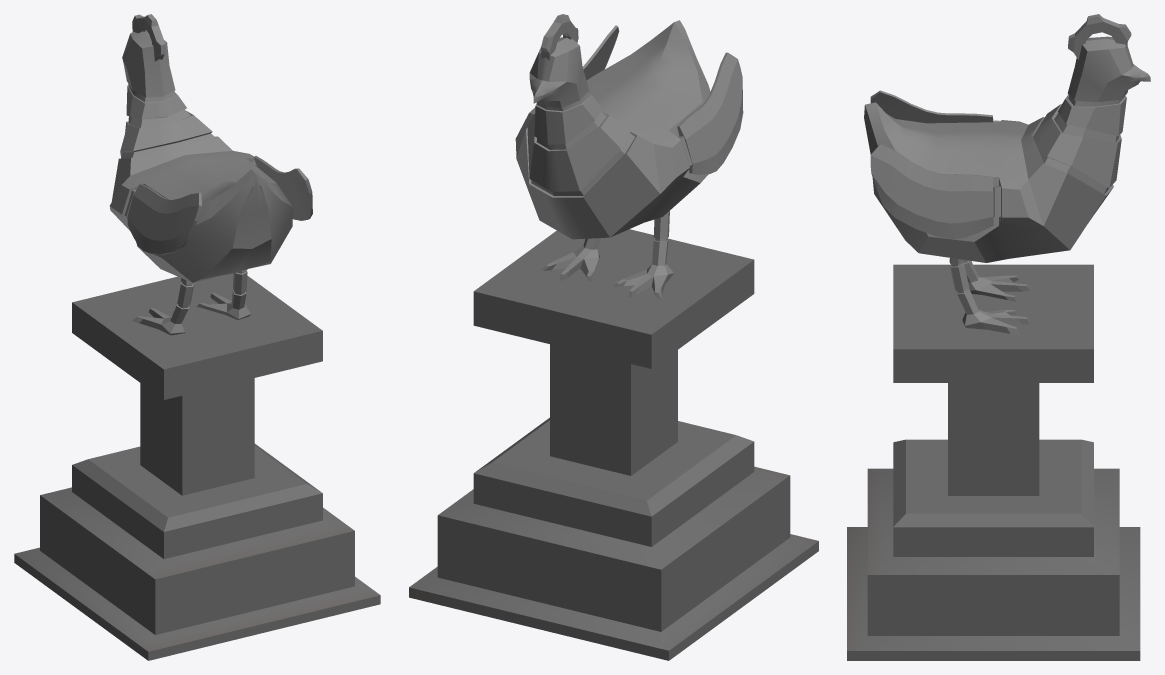
Rendered from pomnik.fbx.
The picture shows the model from 3 angles, left to right: view 1: azimuth 30°, elevation 25°; view 2: azimuth 150°, elevation 25°; view 3: azimuth 270°, elevation 25°; orthographic projection. The views are drawn at different scales.
Parts seen in each view (by area): view 1: Cube, Plane; view 2: Cube, Plane; view 3: Cube, Plane.
Boxes of the visible parts, x1=… form: Cube: x1=14, y1=273, x2=380, y2=660; Plane: x1=109, y1=14, x2=312, y2=335; Cube: x1=409, y1=229, x2=818, y2=660; Plane: x1=515, y1=14, x2=743, y2=299; Cube: x1=847, y1=264, x2=1140, y2=660; Plane: x1=864, y1=14, x2=1150, y2=335.
Size of the model in its own units: 651 by 628 by 1380.
